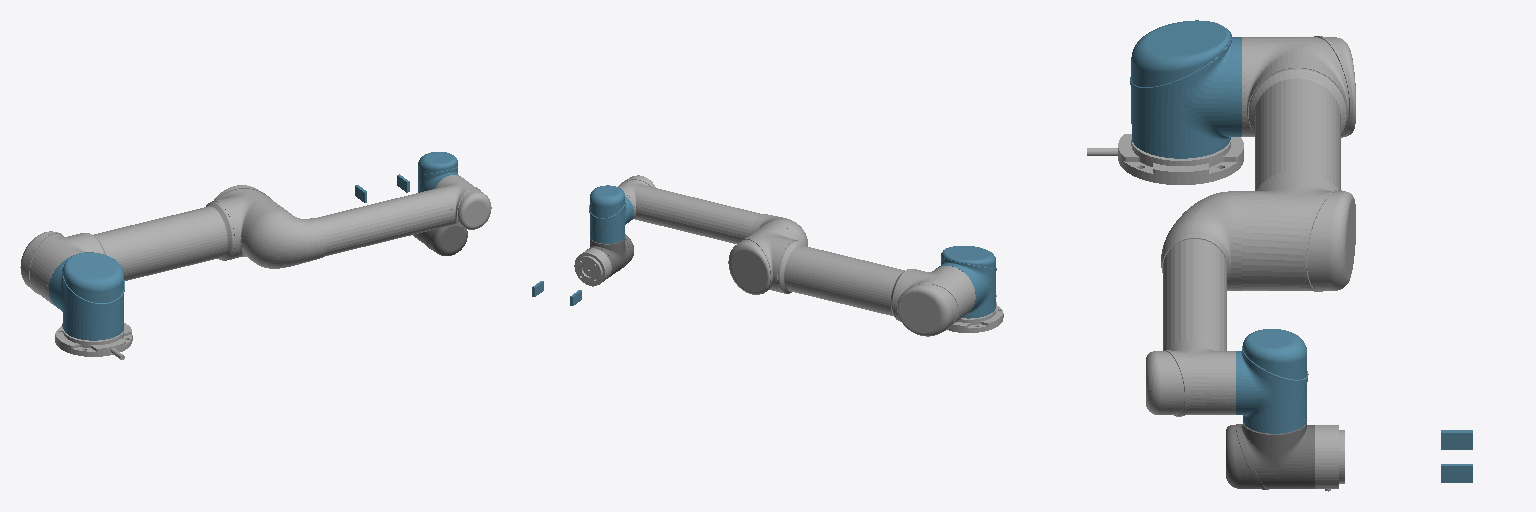
robot.urdf — ur5_robotiq_85:
<?xml version="1.0" ?>
<!-- =================================================================================== -->
<!-- |    This document was autogenerated by xacro from sisbot.xacro                   | -->
<!-- |    EDITING THIS FILE BY HAND IS NOT RECOMMENDED                                 | -->
<!-- =================================================================================== -->
<robot name="ur5_robotiq_85" xmlns:xacro="http://ros.org/wiki/xacro">
  <!--################################################
  ########              arm                    #######
  ####################################################-->

  <link name="base_link">
    <visual>
      <geometry>
        <mesh filename="package://meshes/ur5/visual/base.obj"/>
      </geometry>
      <material name="LightGrey">
        <color rgba="0.7 0.7 0.7 1.0"/>
      </material>
    </visual>
    <collision>
      <geometry>
        <mesh filename="package://meshes/ur5/collision/base.stl"/>
      </geometry>
    </collision>
    <inertial>
      <mass value="4.0"/>
      <origin rpy="0 0 0" xyz="0.0 0.0 0.0"/>
      <inertia ixx="0.00443333156" ixy="0.0" ixz="0.0" iyy="0.00443333156" iyz="0.0" izz="0.0072"/>
    </inertial>
  </link>

  <joint name="shoulder_pan_joint" type="revolute">
    <parent link="base_link"/>
    <child link="shoulder_link"/>
    <origin rpy="0.0 0.0 0.0" xyz="0.0 0.0 0.089159"/>
    <axis xyz="0 0 1"/>
    <limit effort="150.0" lower="-3.14159265359" upper="3.14159265359" velocity="3.15"/>
    <dynamics damping="0.0" friction="0.0"/>
  </joint>
  <link name="shoulder_link">
    <visual>
      <geometry>
        <mesh filename="package://meshes/ur5/visual/shoulder.obj"/>
      </geometry>
      <material name="UR-Blue">
        <color rgba="0.376 0.576 0.674 1.0"/>
      </material>
    </visual>
    <collision>
      <geometry>
        <mesh filename="package://meshes/ur5/collision/shoulder.stl"/>
      </geometry>
    </collision>
    <inertial>
      <mass value="3.7"/>
      <origin rpy="0 0 0" xyz="0.0 0.0 0.0"/>
      <inertia ixx="0.010267495893" ixy="0.0" ixz="0.0" iyy="0.010267495893" iyz="0.0" izz="0.00666"/>
    </inertial>
  </link>
  <joint name="shoulder_lift_joint" type="revolute">
    <parent link="shoulder_link"/>
    <child link="upper_arm_link"/>
    <origin rpy="0.0 1.57079632679 0.0" xyz="0.0 0.13585 0.0"/>
    <axis xyz="0 1 0"/>
    <limit effort="150.0" lower="-3.14159265359" upper="3.14159265359" velocity="3.15"/>
    <dynamics damping="0.0" friction="0.0"/>
  </joint>
  <link name="upper_arm_link">
    <visual>
      <geometry>
        <mesh filename="package://meshes/ur5/visual/upperarm.obj"/>
      </geometry>
      <material name="LightGrey">
        <color rgba="0.7 0.7 0.7 1.0"/>
      </material>
    </visual>
    <collision>
      <geometry>
        <mesh filename="package://meshes/ur5/collision/upperarm.stl"/>
      </geometry>
    </collision>
    <inertial>
      <mass value="8.393"/>
      <origin rpy="0 0 0" xyz="0.0 0.0 0.28"/>
      <inertia ixx="0.22689067591" ixy="0.0" ixz="0.0" iyy="0.22689067591" iyz="0.0" izz="0.0151074"/>
    </inertial>
  </link>
  <joint name="elbow_joint" type="revolute">
    <parent link="upper_arm_link"/>
    <child link="forearm_link"/>
    <origin rpy="0.0 0.0 0.0" xyz="0.0 -0.1197 0.425"/>
    <axis xyz="0 1 0"/>
    <limit effort="150.0" lower="-3.14159265359" upper="3.14159265359" velocity="3.15"/>
    <dynamics damping="0.0" friction="0.0"/>
  </joint>
  <link name="forearm_link">
    <visual>
      <geometry>
        <mesh filename="package://meshes/ur5/visual/forearm.obj"/>
      </geometry>
      <material name="LightGrey">
        <color rgba="0.7 0.7 0.7 1.0"/>
      </material>
    </visual>
    <collision>
      <geometry>
        <mesh filename="package://meshes/ur5/collision/forearm.stl"/>
      </geometry>
    </collision>
    <inertial>
      <mass value="2.275"/>
      <origin rpy="0 0 0" xyz="0.0 0.0 0.25"/>
      <inertia ixx="0.049443313556" ixy="0.0" ixz="0.0" iyy="0.049443313556" iyz="0.0" izz="0.004095"/>
    </inertial>
  </link>
  <joint name="wrist_1_joint" type="revolute">
    <parent link="forearm_link"/>
    <child link="wrist_1_link"/>
    <origin rpy="0.0 1.57079632679 0.0" xyz="0.0 0.0 0.39225"/>
    <axis xyz="0 1 0"/>
    <limit effort="28.0" lower="-3.14159265359" upper="3.14159265359" velocity="3.2"/>
    <dynamics damping="0.0" friction="0.0"/>
  </joint>
  <link name="wrist_1_link">
    <visual>
      <geometry>
        <mesh filename="package://meshes/ur5/visual/wrist1.obj"/>
      </geometry>
      <material name="UR-Blue">
        <color rgba="0.376 0.576 0.674 1.0"/>
      </material>
    </visual>
    <collision>
      <geometry>
        <mesh filename="package://meshes/ur5/collision/wrist1.stl"/>
      </geometry>
    </collision>
    <inertial>
      <mass value="1.219"/>
      <origin rpy="0 0 0" xyz="0.0 0.0 0.0"/>
      <inertia ixx="0.111172755531" ixy="0.0" ixz="0.0" iyy="0.111172755531" iyz="0.0" izz="0.21942"/>
    </inertial>
  </link>
  <joint name="wrist_2_joint" type="revolute">
    <parent link="wrist_1_link"/>
    <child link="wrist_2_link"/>
    <origin rpy="0.0 0.0 0.0" xyz="0.0 0.093 0.0"/>
    <axis xyz="0 0 1"/>
    <limit effort="28.0" lower="-3.14159265359" upper="3.14159265359" velocity="3.2"/>
    <dynamics damping="0.0" friction="0.0"/>
  </joint>
  <link name="wrist_2_link">
    <visual>
      <geometry>
        <mesh filename="package://meshes/ur5/visual/wrist2.obj"/>
      </geometry>
      <material name="DarkGray">
        <color rgba="0.5 0.5 0.5 1.0"/>
      </material>
    </visual>
    <collision>
      <geometry>
        <mesh filename="package://meshes/ur5/collision/wrist2.stl"/>
      </geometry>
    </collision>
    <inertial>
      <mass value="1.219"/>
      <origin rpy="0 0 0" xyz="0.0 0.0 0.0"/>
      <inertia ixx="0.111172755531" ixy="0.0" ixz="0.0" iyy="0.111172755531" iyz="0.0" izz="0.21942"/>
    </inertial>
  </link>
  <joint name="wrist_3_joint" type="revolute">
    <parent link="wrist_2_link"/>
    <child link="wrist_3_link"/>
    <origin rpy="0.0 0.0 0.0" xyz="0.0 0.0 0.09465"/>
    <axis xyz="0 1 0"/>
    <limit effort="28.0" lower="-3.14159265359" upper="3.14159265359" velocity="3.2"/>
    <dynamics damping="0.0" friction="0.0"/>
  </joint>
  <link name="wrist_3_link">
    <visual>
      <geometry>
        <mesh filename="package://meshes/ur5/visual/wrist3.obj"/>
      </geometry>
      <material name="LightGrey">
        <color rgba="0.7 0.7 0.7 1.0"/>
      </material>
    </visual>
    <collision>
      <geometry>
        <mesh filename="package://meshes/ur5/collision/wrist3.stl"/>
      </geometry>
    </collision>
    <inertial>
      <mass value="0.1879"/>
      <origin rpy="0 0 0" xyz="0.0 0.0 0.0"/>
      <inertia ixx="0.0171364731454" ixy="0.0" ixz="0.0" iyy="0.0171364731454" iyz="0.0" izz="0.033822"/>
    </inertial>
  </link>
  <joint name="ee_fixed_joint" type="fixed">
    <parent link="wrist_3_link"/>
    <child link="ee_link"/>
    <origin rpy="0.0 0.0 1.57079632679" xyz="0.0 0.0823 0.0"/>
  </joint>
  <link name="ee_link">
    <collision>
      <geometry>
        <box size="0.01 0.01 0.01"/>
      </geometry>
      <origin rpy="0 0 0" xyz="-0.01 0 0"/>
    </collision>
  </link>

  <!--################################################
  ########              gripper                  #####
  ####################################################-->

  <link name="robotiq_arg2f_base_link">
    <inertial>
      <origin rpy="0 0 0" xyz="8.625E-08 -4.6583E-06 0.03145"/>
      <mass value="0.22652"/>
      <inertia ixx="0.00020005" ixy="-4.2442E-10" ixz="-2.9069E-10" iyy="0.00017832" iyz="-3.4402E-08" izz="0.00013478"/>
    </inertial>
    <visual>
      <origin rpy="0 0 0" xyz="0 0 0"/>
      <geometry>
        <mesh filename="package://meshes/robotiq_85/visual/robotiq_arg2f_85_base_link.dae" scale="0.001 0.001 0.001"/>
      </geometry>
      <material name="LightGrey">
        <color rgba="0.7 0.7 0.7 1.0"/>
      </material>
    </visual>
    <collision>
      <origin rpy="0 0 0" xyz="0 0 0"/>
      <geometry>
        <mesh filename="package://meshes/robotiq_85/collision/robotiq_arg2f_base_link.stl"/>
      </geometry>
    </collision>
  </link>
  <joint name="finger_joint" type="revolute">
    <origin rpy="0 0 3.14159265359" xyz="0 -0.0306011 0.054904"/>
    <parent link="robotiq_arg2f_base_link"/>
    <child link="left_outer_knuckle"/>
    <axis xyz="1 0 0"/>
    <limit effort="1000" lower="0" upper="0.8" velocity="2.0"/>
  </joint>
  <link name="left_outer_knuckle">
    <inertial>
        <origin xyz="-0.000200000000003065 0.0199435877845359 0.0292245259211331" rpy="0 0 0" />
        <mass value="0.00853198276973456" />
        <inertia ixx="2.89328108496468E-06" ixy="-1.57935047237397E-19" ixz="-1.93980378593255E-19" iyy="1.86719750325683E-06" iyz="-1.21858577871576E-06" izz="1.21905238907251E-06" />
        </inertial>
    <visual>
      <origin rpy="0 0 0" xyz="0 0 0"/>
      <geometry>
        <mesh filename="package://meshes/robotiq_85/visual/robotiq_arg2f_85_outer_knuckle.dae" scale="0.001 0.001 0.001"/>
      </geometry>
      <material name="">
        <color rgba="1 1 0 1"/>
      </material>
    </visual>
    <collision>
      <origin rpy="0 0 0" xyz="0 0 0"/>
      <geometry>
        <mesh filename="package://meshes/robotiq_85/collision/robotiq_arg2f_85_outer_knuckle.dae" scale="0.001 0.001 0.001"/>
      </geometry>
    </collision>
  </link>
  <joint name="left_outer_finger_joint" type="fixed">
    <origin rpy="0 0 0" xyz="0 0.0315 -0.0041"/>
    <parent link="left_outer_knuckle"/>
    <child link="left_outer_finger"/>
    <axis xyz="1 0 0"/>
  </joint>
  <link name="left_outer_finger">
    <inertial>
        <origin xyz="0.00030115855001899 0.0373907951953854 -0.0208027427000385" rpy="0 0 0" />
        <mass value="0.022614240507152" />
        <inertia ixx="1.52518312458174E-05" ixy="9.76583423954399E-10" ixz="-5.43838577022588E-10" iyy="6.17694243867776E-06" iyz="6.78636130740228E-06" izz="1.16494917907219E-05" />
        </inertial>
    <visual>
      <origin rpy="0 0 0" xyz="0 0 0"/>
      <geometry>
        <mesh filename="package://meshes/robotiq_85/visual/robotiq_arg2f_85_outer_finger.dae" scale="0.001 0.001 0.001"/>
      </geometry>
      <material name="LightGrey">
        <color rgba="0 1 1 1.0"/>
      </material>
    </visual>
    <collision>
      <origin rpy="0 0 0" xyz="0 0 0"/>
      <geometry>
        <mesh filename="package://meshes/robotiq_85/collision/robotiq_arg2f_85_outer_finger.dae" scale="0.001 0.001 0.001"/>
      </geometry>
    </collision>
  </link>
  <joint name="left_inner_finger_joint" type="revolute">
    <origin rpy="0 0 0" xyz="0 0.0061 0.0471"/>
    <parent link="left_outer_finger"/>
    <child link="left_inner_finger"/>
    <axis xyz="1 0 0"/>
    <limit effort="1000" lower="-0.8757" upper="0" velocity="2.0"/>
    <mimic joint="finger_joint" multiplier="-1" offset="0"/>
  </joint>
  <link name="left_inner_finger">
    <inertial>
        <origin xyz="0.000299999999999317 0.0160078233491243 -0.0136945669206257" rpy="0 0 0" />
        <mass value="0.0104003125914103" />
        <inertia ixx="2.71909453810972E-06" ixy="1.35402465472579E-21" ixz="-7.1817349065269E-22" iyy="7.69100314106116E-07" iyz="6.74715432769696E-07" izz="2.30315190420171E-06" />
        </inertial>
    <visual>
      <origin rpy="0 0 0" xyz="0 0 0"/>
      <geometry>
        <mesh filename="package://meshes/robotiq_85/visual/robotiq_arg2f_85_inner_finger.dae" scale="0.001 0.001 0.001"/>
      </geometry>
      <material name="LightGrey">
        <color rgba="1 0 1 1.0"/>
      </material>
    </visual>
    <collision>
      <origin rpy="0 0 0" xyz="0 0 0"/>
      <geometry>
        <mesh filename="package://meshes/robotiq_85/collision/robotiq_arg2f_85_inner_finger.dae" scale="0.001 0.001 0.001"/>
      </geometry>
    </collision>
  </link>
  <joint name="left_inner_finger_pad_joint" type="fixed">
    <origin rpy="0 0 0" xyz="0 -0.0220203446692936 0.03242"/>
    <parent link="left_inner_finger"/>
    <child link="left_inner_finger_pad"/>
    <axis xyz="0 0 1"/>
  </joint>
  <link name="left_inner_finger_pad">
    <inertial>
      <mass value="1."/>
      <inertia ixx="1E-10" ixy="1E-10" ixz="1E-10" iyy="1E-10" iyz="1E-10" izz="1E-10"/>
    </inertial>
    <visual>
      <origin rpy="0 0 0" xyz="0 0 0"/>
      <geometry>
        <box size="0.022 0.00635 0.0375"/>
      </geometry>
      <material name="UR-Blue">
        <color rgba="0.376 0.576 0.674 1.0"/>
      </material>
    </visual>
    <collision>
      <origin rpy="0 0 0" xyz="0 0 0"/>
      <geometry>
        <box size="0.022 0.00635 0.0375"/>
      </geometry>
      <material name="">
        <color rgba="0.9 0.0 0.0 1"/>
      </material>
    </collision>
  </link>
  <joint name="left_inner_knuckle_joint" type="revolute">
    <!-- <origin xyz="0 ${reflect * -0.0127} 0.06142" rpy="${pi / 2 + .725} 0 ${(reflect - 1) * pi / 2}" /> -->
    <origin rpy="0 0 3.14159265359" xyz="0 -0.0127 0.06142"/>
    <parent link="robotiq_arg2f_base_link"/>
    <child link="left_inner_knuckle"/>
    <axis xyz="1 0 0"/>
    <limit effort="1000" lower="0" upper="0.8757" velocity="2.0"/>
    <mimic joint="finger_joint" multiplier="1" offset="0"/>
  </joint>
  <link name="left_inner_knuckle">
    <inertial>
        <origin xyz="0.000123011831763771 0.0507850843201817 0.00103968640075166" rpy="0 0 0" />
       <mass value="0.0271177346495152" />
        <inertia ixx="2.61910379223783E-05" ixy="-2.43616858946494E-07" ixz="-6.37789906117123E-09" iyy="2.8270243746167E-06" iyz="-5.37200748039765E-07" izz="2.83695868220296E-05" />
        </inertial>
    <visual>
      <origin rpy="0 0 0" xyz="0 0 0"/>
      <geometry>
        <mesh filename="package://meshes/robotiq_85/visual/robotiq_arg2f_85_inner_knuckle.dae" scale="0.001 0.001 0.001"/>
      </geometry>
      <material name="LightGrey">
        <color rgba="0 0 1 1.0"/>
      </material>
    </visual>
    <collision>
      <origin rpy="0 0 0" xyz="0 0 0"/>
      <geometry>
        <mesh filename="package://meshes/robotiq_85/collision/robotiq_arg2f_85_inner_knuckle.dae" scale="0.001 0.001 0.001"/>
      </geometry>
    </collision>
  </link>
  <joint name="right_outer_knuckle_joint" type="revolute">
    <origin rpy="0 0 0" xyz="0 0.0306011 0.054904"/>
    <parent link="robotiq_arg2f_base_link"/>
    <child link="right_outer_knuckle"/>
    <axis xyz="1 0 0"/>
    <limit effort="1000" lower="0" upper="0.81" velocity="2.0"/>
    <mimic joint="finger_joint" multiplier="1" offset="0"/>
  </joint>
  <link name="right_outer_knuckle">
    <inertial>
        <origin xyz="-0.000200000000003065 0.0199435877845359 0.0292245259211331" rpy="0 0 0" />
        <mass value="0.00853198276973456" />
        <inertia ixx="2.89328108496468E-06" ixy="-1.57935047237397E-19" ixz="-1.93980378593255E-19" iyy="1.86719750325683E-06" iyz="-1.21858577871576E-06" izz="1.21905238907251E-06" />
        </inertial>
    <visual>
      <origin rpy="0 0 0" xyz="0 0 0"/>
      <geometry>
        <mesh filename="package://meshes/robotiq_85/visual/robotiq_arg2f_85_outer_knuckle.dae" scale="0.001 0.001 0.001"/>
      </geometry>
      <material name="">
        <color rgba="0.792156862745098 0.819607843137255 0.933333333333333 1"/>
      </material>
    </visual>
    <collision>
      <origin rpy="0 0 0" xyz="0 0 0"/>
      <geometry>
        <mesh filename="package://meshes/robotiq_85/collision/robotiq_arg2f_85_outer_knuckle.dae" scale="0.001 0.001 0.001"/>
      </geometry>
    </collision>
  </link>
  <joint name="right_outer_finger_joint" type="fixed">
    <origin rpy="0 0 0" xyz="0 0.0315 -0.0041"/>
    <parent link="right_outer_knuckle"/>
    <child link="right_outer_finger"/>
    <axis xyz="1 0 0"/>
  </joint>
  <link name="right_outer_finger">
    <inertial>
        <origin xyz="0.00030115855001899 0.0373907951953854 -0.0208027427000385" rpy="0 0 0" />
        <mass value="0.022614240507152" />
        <inertia ixx="1.52518312458174E-05" ixy="9.76583423954399E-10" ixz="-5.43838577022588E-10" iyy="6.17694243867776E-06" iyz="6.78636130740228E-06" izz="1.16494917907219E-05" />
        </inertial>
    <visual>
      <origin rpy="0 0 0" xyz="0 0 0"/>
      <geometry>
        <mesh filename="package://meshes/robotiq_85/visual/robotiq_arg2f_85_outer_finger.dae" scale="0.001 0.001 0.001"/>
      </geometry>
      <material name="LightGrey">
        <color rgba="0.7 0.7 0.7 1.0"/>
      </material>
    </visual>
    <collision>
      <origin rpy="0 0 0" xyz="0 0 0"/>
      <geometry>
        <mesh filename="package://meshes/robotiq_85/collision/robotiq_arg2f_85_outer_finger.dae" scale="0.001 0.001 0.001"/>
      </geometry>
    </collision>
  </link>
  <joint name="right_inner_finger_joint" type="revolute">
    <origin rpy="0 0 0" xyz="0 0.0061 0.0471"/>
    <parent link="right_outer_finger"/>
    <child link="right_inner_finger"/>
    <axis xyz="1 0 0"/>
    <limit effort="1000" lower="-0.8757" upper="0" velocity="2.0"/>
    <mimic joint="finger_joint" multiplier="-1" offset="0"/>
  </joint>
  <link name="right_inner_finger">
    <inertial>
        <origin xyz="0.000299999999999317 0.0160078233491243 -0.0136945669206257" rpy="0 0 0" />
        <mass value="0.0104003125914103" />
        <inertia ixx="2.71909453810972E-06" ixy="1.35402465472579E-21" ixz="-7.1817349065269E-22" iyy="7.69100314106116E-07" iyz="6.74715432769696E-07" izz="2.30315190420171E-06" />
        </inertial>
    <visual>
      <origin rpy="0 0 0" xyz="0 0 0"/>
      <geometry>
        <mesh filename="package://meshes/robotiq_85/visual/robotiq_arg2f_85_inner_finger.dae" scale="0.001 0.001 0.001"/>
      </geometry>
      <material name="">
        <color rgba="0.1 0.1 0.1 1"/>
      </material>
    </visual>
    <collision>
      <origin rpy="0 0 0" xyz="0 0 0"/>
      <geometry>
        <mesh filename="package://meshes/robotiq_85/collision/robotiq_arg2f_85_inner_finger.dae" scale="0.001 0.001 0.001"/>
      </geometry>
    </collision>
  </link>
  <joint name="right_inner_finger_pad_joint" type="fixed">
    <origin rpy="0 0 0" xyz="0 -0.0220203446692936 0.03242"/>
    <parent link="right_inner_finger"/>
    <child link="right_inner_finger_pad"/>
    <axis xyz="0 0 1"/>
  </joint>
  <link name="right_inner_finger_pad">
    <inertial>
      <mass value="1"/>
      <inertia ixx="1E-10" ixy="1E-10" ixz="1E-10" iyy="1E-10" iyz="1E-10" izz="1E-10"/>
    </inertial>
    <visual>
      <origin rpy="0 0 0" xyz="0 0 0"/>
      <geometry>
        <box size="0.022 0.00635 0.0375"/>
      </geometry>
      <material name="UR-Blue">
        <color rgba="0.376 0.576 0.674 1.0"/>
      </material>
    </visual>
    <collision>
      <origin rpy="0 0 0" xyz="0 0 0"/>
      <geometry>
        <box size="0.022 0.00635 0.0375"/>
      </geometry>
      <material name="LightGrey">
        <color rgba="0.7 0.7 0.7 1.0"/>
      </material>
    </collision>
  </link>
  <joint name="right_inner_knuckle_joint" type="revolute">
    <!-- <origin xyz="0 ${reflect * -0.0127} 0.06142" rpy="${pi / 2 + .725} 0 ${(reflect - 1) * pi / 2}" /> -->
    <origin rpy="0 0 0.0" xyz="0 0.0127 0.06142"/>
    <parent link="robotiq_arg2f_base_link"/>
    <child link="right_inner_knuckle"/>
    <axis xyz="1 0 0"/>
    <limit effort="1000" lower="0" upper="0.8757" velocity="2.0"/>
    <mimic joint="finger_joint" multiplier="1" offset="0"/>
  </joint>
  <link name="right_inner_knuckle">
    <inertial>
        <origin xyz="0.000123011831763771 0.0507850843201817 0.00103968640075166" rpy="0 0 0" />
       <mass value="0.0271177346495152" />
        <inertia ixx="2.61910379223783E-05" ixy="-2.43616858946494E-07" ixz="-6.37789906117123E-09" iyy="2.8270243746167E-06" iyz="-5.37200748039765E-07" izz="2.83695868220296E-05" />
        </inertial>
    <visual>
      <origin rpy="0 0 0" xyz="0 0 0"/>
      <geometry>
        <mesh filename="package://meshes/robotiq_85/visual/robotiq_arg2f_85_inner_knuckle.dae" scale="0.001 0.001 0.001"/>
      </geometry>
      <material name="LightGrey">
        <color rgba="0.7 0.7 0.7 1.0"/>
      </material>
    </visual>
    <collision>
      <origin rpy="0 0 0" xyz="0 0 0"/>
      <geometry>
        <mesh filename="package://meshes/robotiq_85/collision/robotiq_arg2f_85_inner_knuckle.dae" scale="0.001 0.001 0.001"/>
      </geometry>
    </collision>
  </link>

<!--################################################
  ########          connect model                #####
  ####################################################-->

  <link name="world"/>
  <!-- connect gripper to arm -->
  <joint name="robotiq_85_base_joint" type="fixed">
    <parent link="ee_link"/>
    <child link="robotiq_arg2f_base_link"/>
    <origin rpy="0 1.57079632679 0" xyz="0 0 0"/>
  </joint>

<!--  <joint name="arm_gripper_joint" type="fixed">-->
<!--    <parent link="ee_link"/>-->
<!--    <child link="robotiq_140_robotiq_arg2f_base_link"/>-->
<!--    <origin rpy="-1.57 1.57 -1.57" xyz="0.0 0.0 0.0"/>-->
<!--  </joint>-->

  <!-- connect arm to world -->
  <joint name="world_arm_joint" type="fixed">
    <parent link="world"/>
    <child link="base_link"/>
    <origin rpy="0.0 0.0 0" xyz="0 0 0"/>
  </joint>


</robot>

--- Facts derived from the render (not from the file) ---
Views: 3 orthographic renders of the robot side by side, from view 1: azimuth 30°, elevation 25°; view 2: azimuth 150°, elevation 25°; view 3: azimuth 270°, elevation 25°.
Model ur5_robotiq_85 with 20 links and 19 joints (12 revolute, 7 fixed), rooted at world, posed all joints at 0.
Visible links, largest first — view 1: upper_arm_link, forearm_link, shoulder_link, base_link, wrist_1_link, wrist_2_link; view 2: upper_arm_link, forearm_link, shoulder_link, wrist_1_link, wrist_3_link, wrist_2_link, base_link; view 3: upper_arm_link, forearm_link, shoulder_link, wrist_1_link, wrist_2_link, base_link, wrist_3_link, left_inner_finger_pad, right_inner_finger_pad.
Link boxes in pixels (bbox=[...]): upper_arm_link: bbox=[20, 185, 283, 305]; forearm_link: bbox=[243, 175, 491, 268]; shoulder_link: bbox=[49, 252, 124, 340]; base_link: bbox=[55, 323, 132, 359]; wrist_1_link: bbox=[418, 152, 458, 192]; wrist_2_link: bbox=[413, 224, 467, 255]; upper_arm_link: bbox=[728, 223, 975, 336]; forearm_link: bbox=[618, 175, 807, 246]; shoulder_link: bbox=[936, 246, 996, 318]; wrist_1_link: bbox=[589, 185, 633, 243]; wrist_3_link: bbox=[574, 248, 611, 286]; wrist_2_link: bbox=[587, 234, 633, 276]; base_link: bbox=[947, 295, 1003, 332]; upper_arm_link: bbox=[1242, 36, 1355, 291]; forearm_link: bbox=[1146, 191, 1241, 416]; shoulder_link: bbox=[1130, 20, 1241, 158]; wrist_1_link: bbox=[1236, 329, 1308, 433]; wrist_2_link: bbox=[1226, 422, 1314, 489]; base_link: bbox=[1087, 134, 1243, 184]; wrist_3_link: bbox=[1315, 425, 1344, 491]; left_inner_finger_pad: bbox=[1441, 430, 1472, 449]; right_inner_finger_pad: bbox=[1441, 464, 1472, 482].
Bounding box of the posed robot: 0.94 × 0.4505 × 0.2062 m (x, y, z).
Meshes: 12 distinct files referenced, 7 mesh visuals loaded (7 OBJ); not drawn: 9 (reference not matched to a file when rendering).
